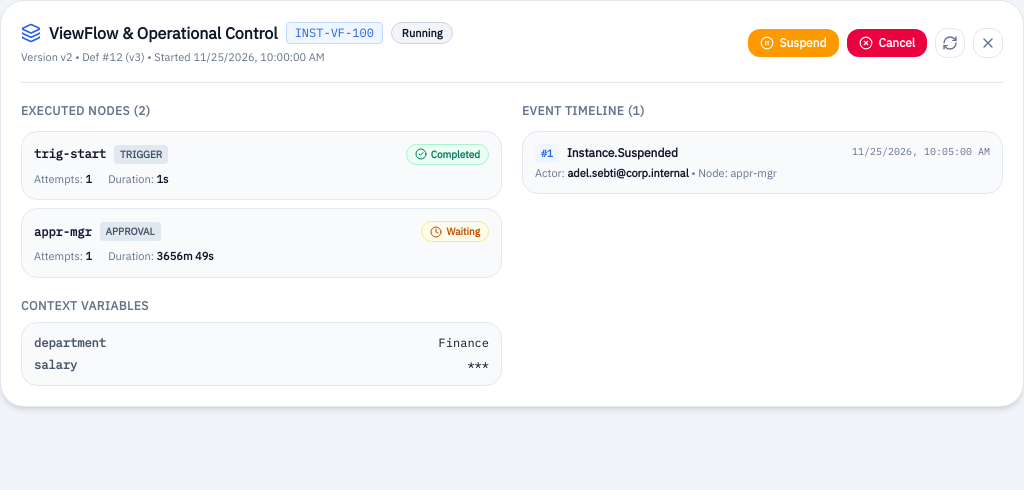
Test: InstanceViewFlowPanel › displays 403/409 operational errors cleanly in role=alert banner
Click the button "Suspend" at (793, 43), box [748,29,838,57]
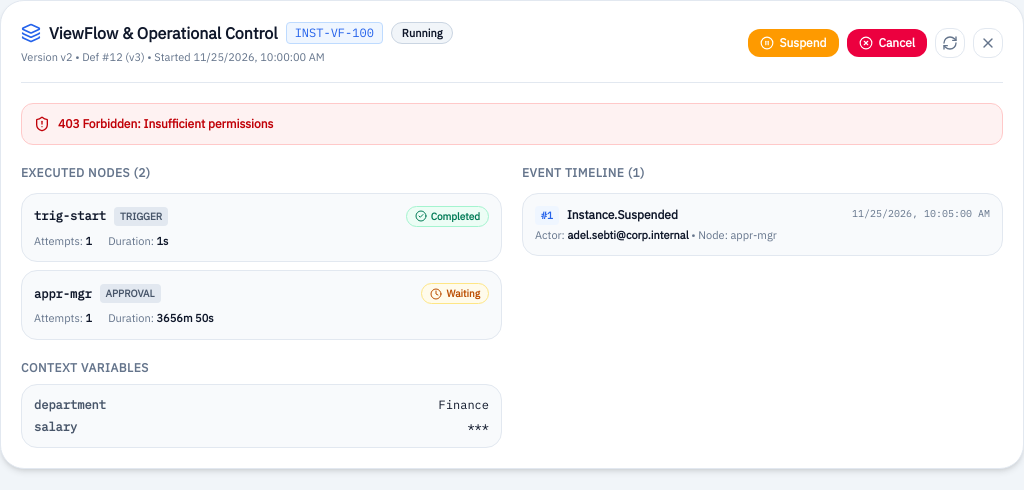
Check: the message shows "403 Forbidden", box [58,116,274,130]
